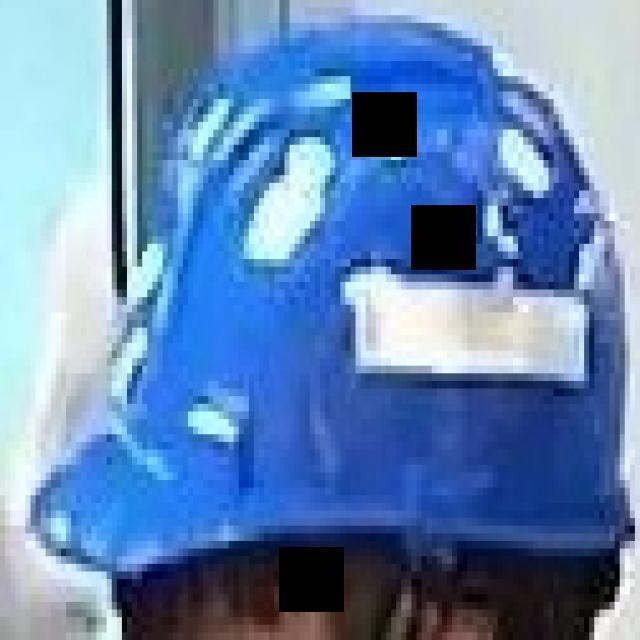blue helmet: (26, 2, 634, 584)
